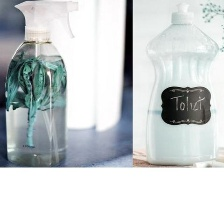cleaning_solution: (2, 0, 83, 166), (144, 1, 223, 166)
